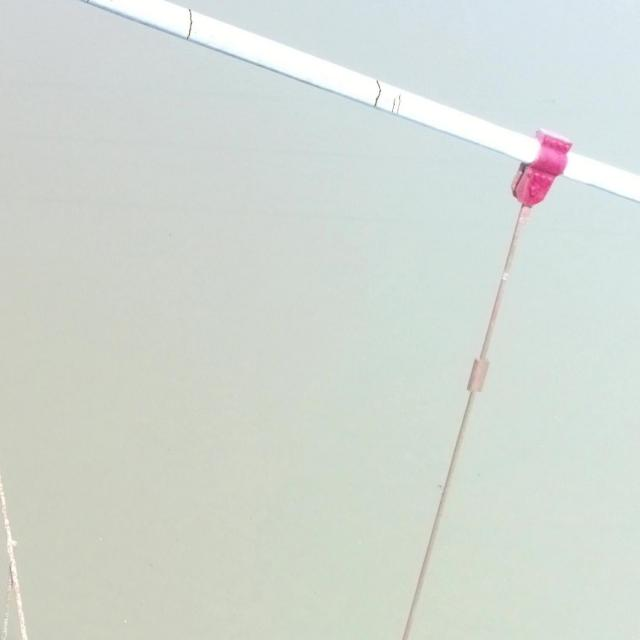crack: (374, 80, 382, 108), (187, 9, 194, 40), (397, 94, 401, 115), (392, 98, 396, 113)
